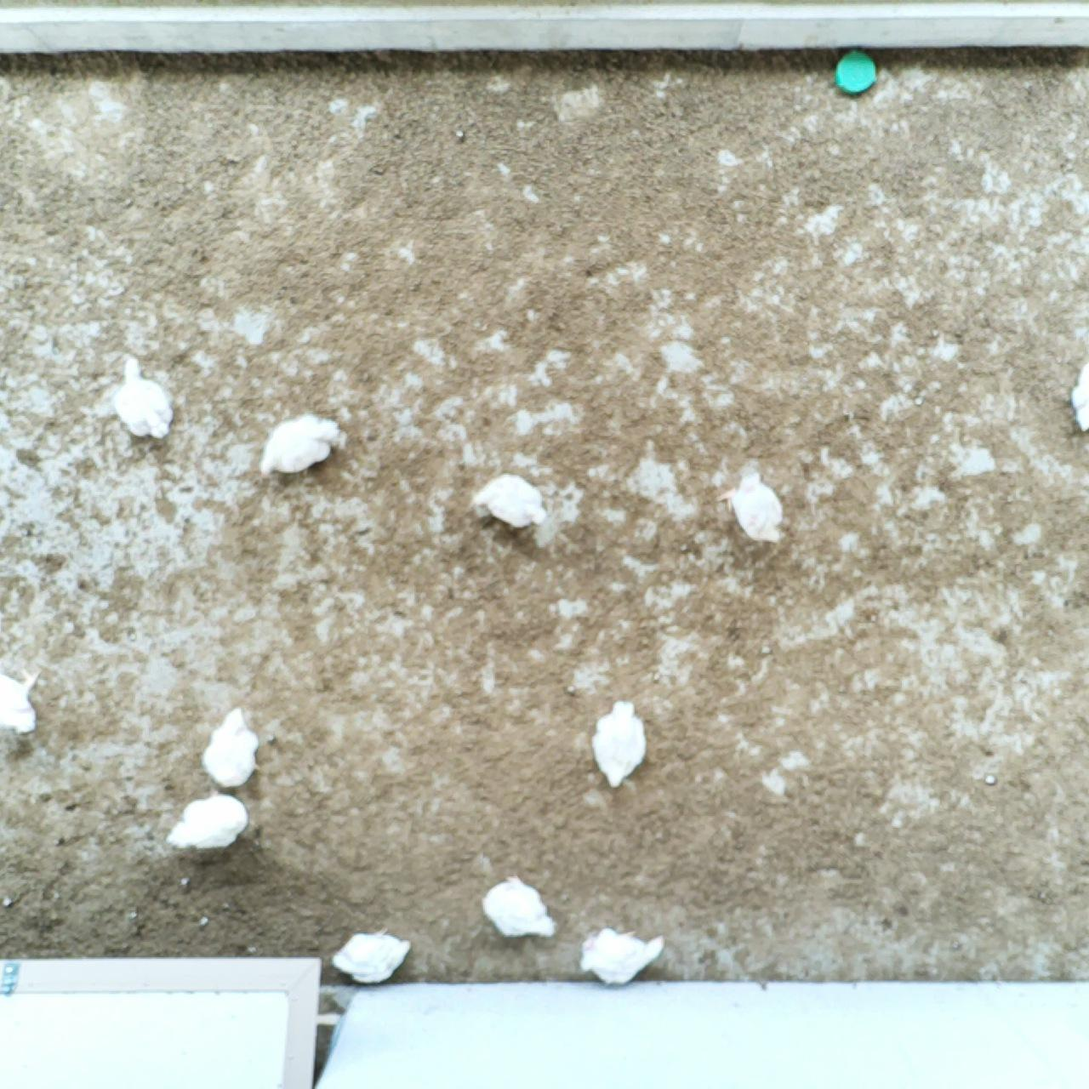chicken: (256, 413, 352, 482), (578, 926, 671, 991), (717, 464, 786, 548), (588, 698, 649, 790), (112, 353, 174, 439), (202, 702, 259, 793), (332, 925, 412, 989), (166, 792, 251, 852), (482, 875, 559, 941), (473, 471, 548, 538), (0, 671, 42, 740), (1068, 353, 1089, 432)
